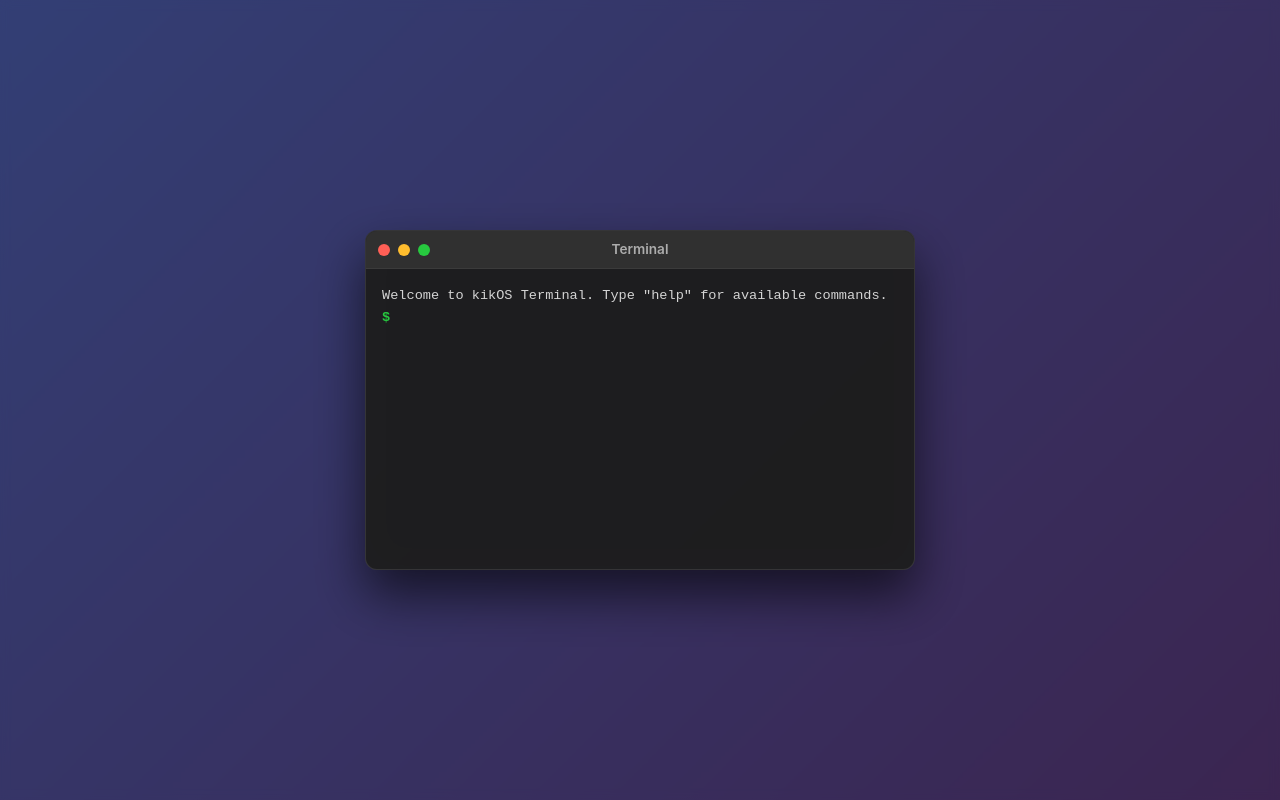
Terminal › removes an invalid API key after validation fails
In the field: coordinates (644, 318) [390,307,898,329], type "set-api-key badKey"
Then press Enter
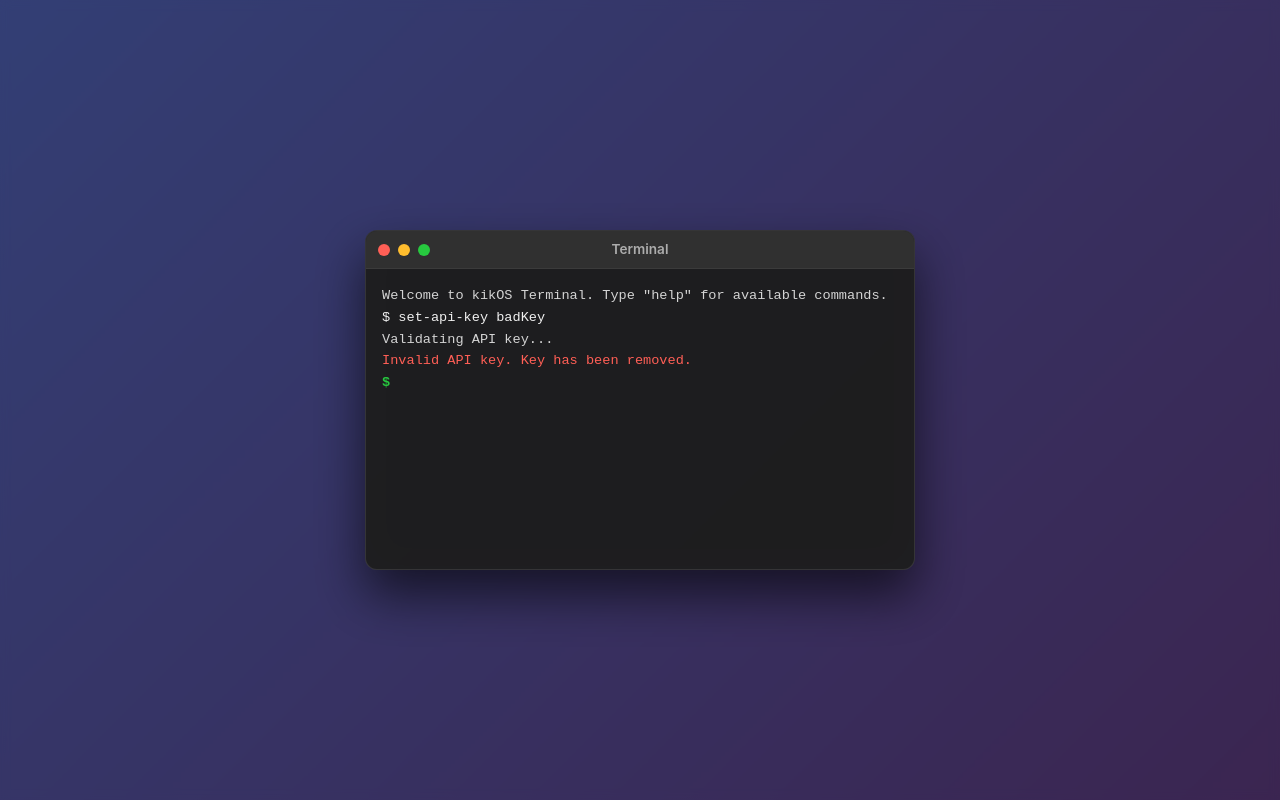
Result: the text "Invalid API key. Key has been removed." is shown at [382,353,692,368]
